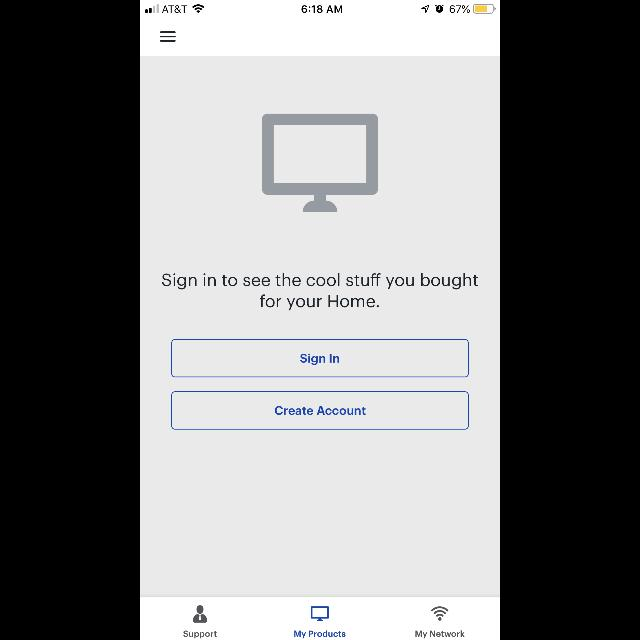icon: (193, 606, 207, 622), (160, 32, 176, 42)
image: (262, 114, 378, 212), (311, 606, 329, 622), (432, 606, 448, 620)
text: (162, 274, 478, 310), (294, 630, 346, 638), (416, 631, 464, 639), (183, 630, 217, 638)
textbutton: (172, 339, 468, 377), (172, 392, 468, 430)
uppertaskbar: (140, 0, 500, 14)
